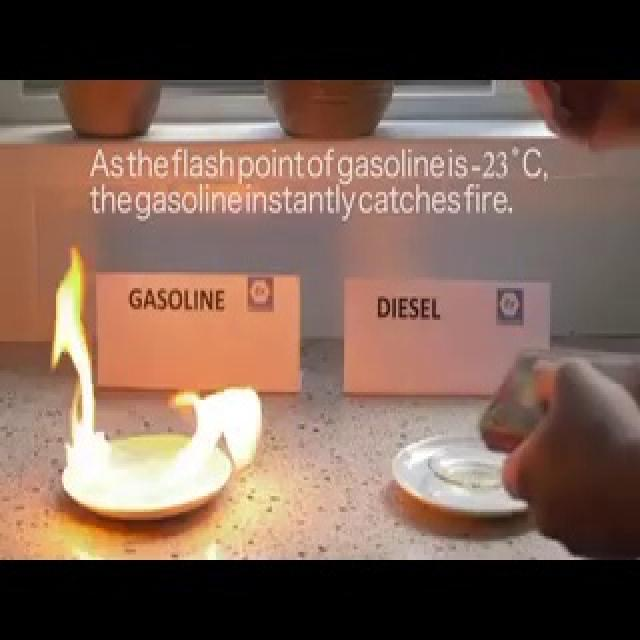fire: (46, 244, 266, 511)
